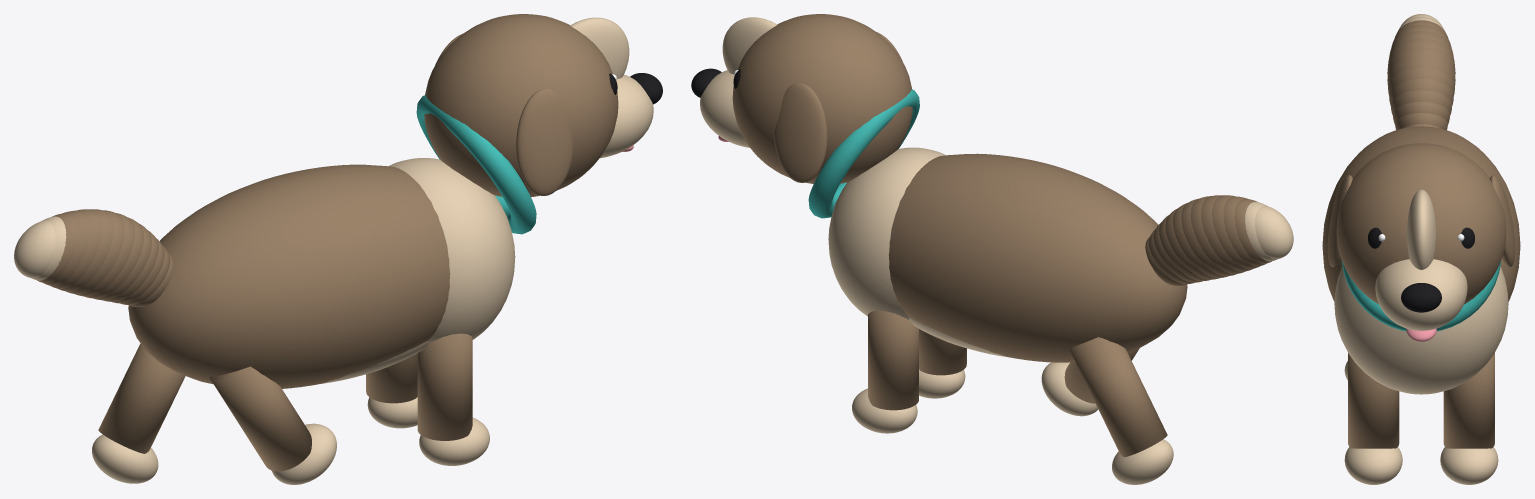
Rendered from mixed.glb.
3 views of the same model, side by side, from view 1: azimuth 30°, elevation 25°; view 2: azimuth 150°, elevation 25°; view 3: azimuth 270°, elevation 25° (orthographic). The views are drawn at different scales.
Visible parts, largest first — view 1: Body, Head, Chest, Leg3, Leg1, Leg2, Ear-1, Collar, Muzzle, Paw2, Leg0, Paw1 (+13 smaller); view 2: Body, Head, Chest, Leg2, Leg0, Ear1, Collar, Muzzle, Paw2, Leg1, Paw0, Tail13 (+13 smaller); view 3: Head, Chest, Body, Muzzle, Leg0, Leg1, Blaze, Paw0, Paw1, Collar, Nose, Ear1 (+15 smaller).
Part boxes in pixels (x1,y1,x2,y2): Body: (128, 164, 450, 388); Head: (424, 14, 618, 197); Chest: (388, 158, 515, 343); Leg3: (209, 366, 311, 471); Leg1: (417, 333, 472, 440); Leg2: (98, 343, 185, 453); Ear-1: (516, 88, 573, 195); Collar: (416, 95, 536, 234); Muzzle: (600, 74, 653, 158); Paw2: (92, 434, 158, 483); Leg0: (366, 353, 417, 403); Paw1: (419, 417, 489, 465); Body: (888, 153, 1187, 362); Head: (732, 14, 912, 183); Chest: (828, 147, 945, 319); Leg2: (1070, 337, 1167, 457); Leg0: (868, 310, 918, 410); Ear1: (774, 83, 827, 182); Collar: (808, 89, 919, 218); Muzzle: (700, 70, 749, 147); Paw2: (1112, 439, 1173, 484); Leg1: (919, 329, 966, 375); Paw0: (852, 388, 917, 433); Tail13: (1255, 205, 1293, 259); Head: (1336, 143, 1506, 304); Chest: (1334, 266, 1508, 394); Body: (1322, 126, 1520, 301); Muzzle: (1375, 259, 1467, 330); Leg0: (1443, 353, 1494, 448); Leg1: (1348, 353, 1399, 448); Blaze: (1407, 189, 1435, 269); Paw0: (1440, 447, 1498, 484); Paw1: (1344, 447, 1402, 484); Collar: (1341, 260, 1501, 331); Nose: (1401, 283, 1441, 312); Ear1: (1490, 175, 1515, 266).
Bounding box in the file's own units: 2.02 × 1.2 × 0.58.
